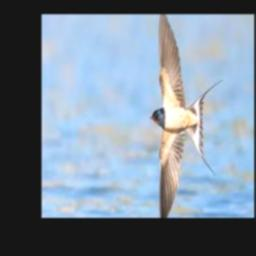Swallow: (150, 14, 224, 218)
